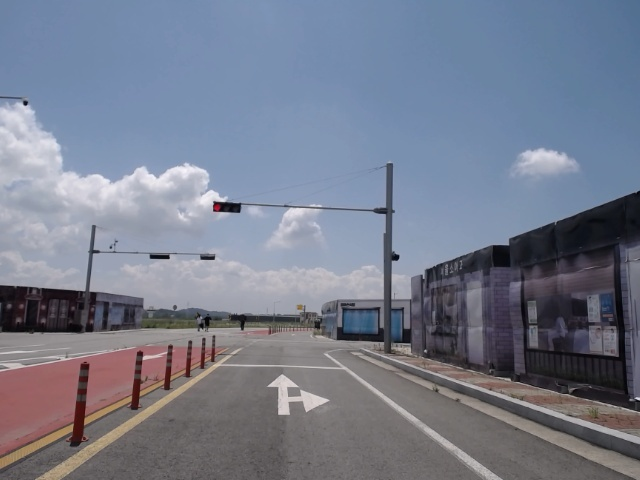red_3: (211, 200, 243, 214)
